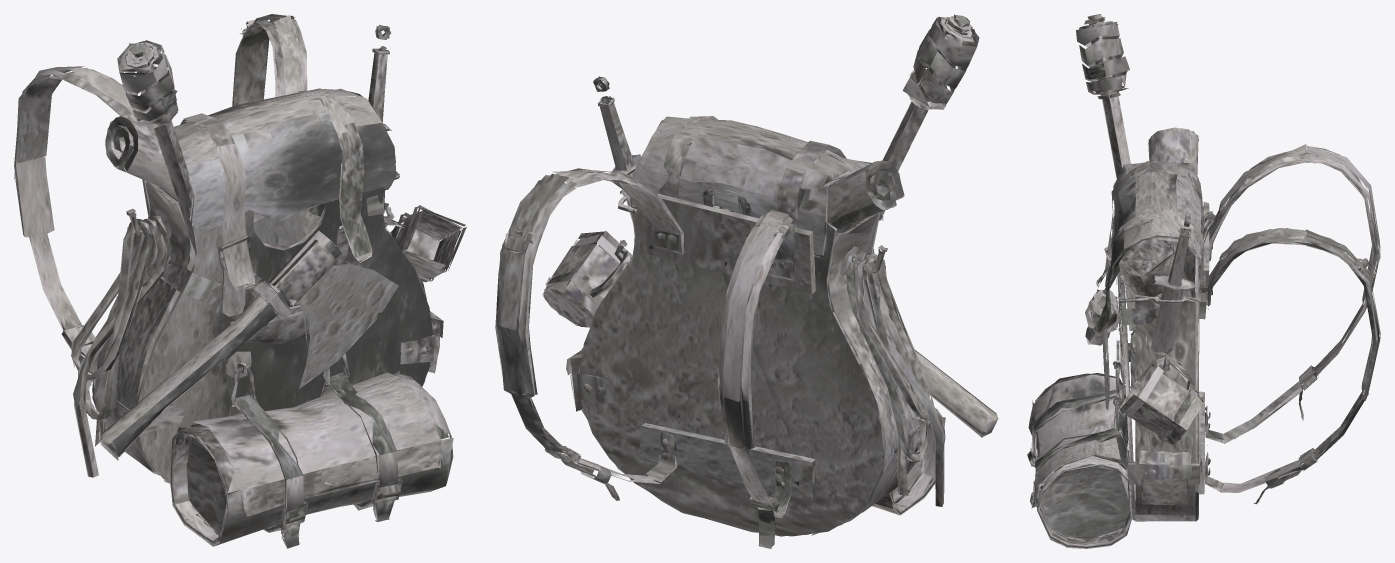
File: backpackLowPoly.obj
3 views of the same model, side by side, from view 1: azimuth 30°, elevation 25°; view 2: azimuth 150°, elevation 25°; view 3: azimuth 270°, elevation 25° (orthographic). The views are drawn at different scales.
Visible parts, largest first — view 1: Sphere.027__0; view 2: Sphere.027__0; view 3: Sphere.027__0.
Part boxes in pixels (x1=…): Sphere.027__0: x1=14, y1=14, x2=466, y2=548; Sphere.027__0: x1=495, y1=14, x2=998, y2=548; Sphere.027__0: x1=1027, y1=14, x2=1380, y2=548.
Size of the model in its own units: 3.78 by 4.62 by 3.48.
